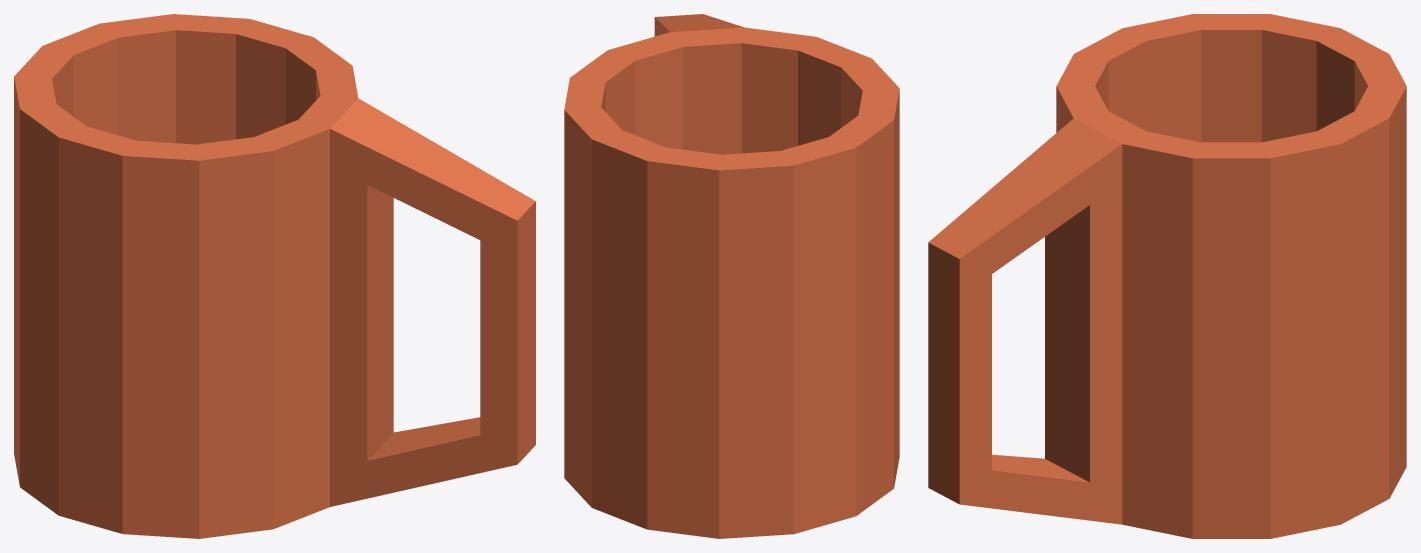
Rendered from Cup.fbx.
The picture shows the model from 3 angles, left to right: view 1: azimuth 30°, elevation 25°; view 2: azimuth 150°, elevation 25°; view 3: azimuth 270°, elevation 25°; orthographic projection. The views are drawn at different scales.
Parts seen in each view (by area): view 1: Кружка; view 2: Кружка; view 3: Кружка.
Part boxes in pixels (x1=…): Кружка: x1=14, y1=14, x2=535, y2=538; Кружка: x1=564, y1=14, x2=899, y2=538; Кружка: x1=928, y1=14, x2=1406, y2=538.
Bounding box in the file's own units: 20.84 × 20.85 × 23.75.
